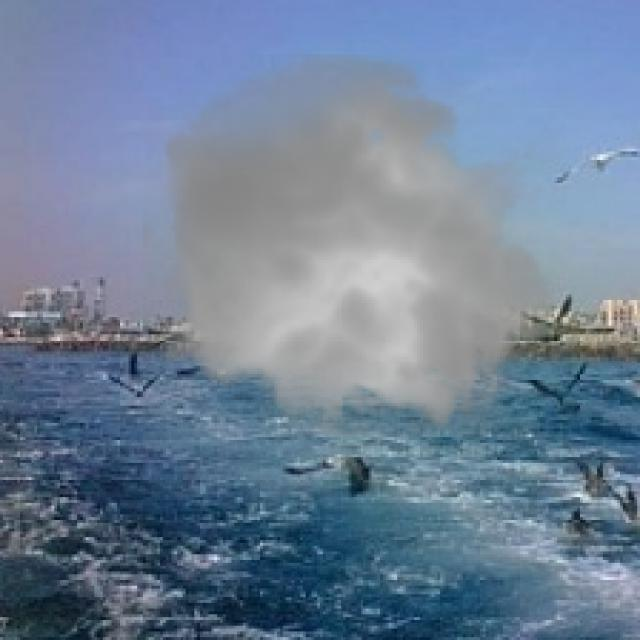smoke: (143, 40, 566, 454)
